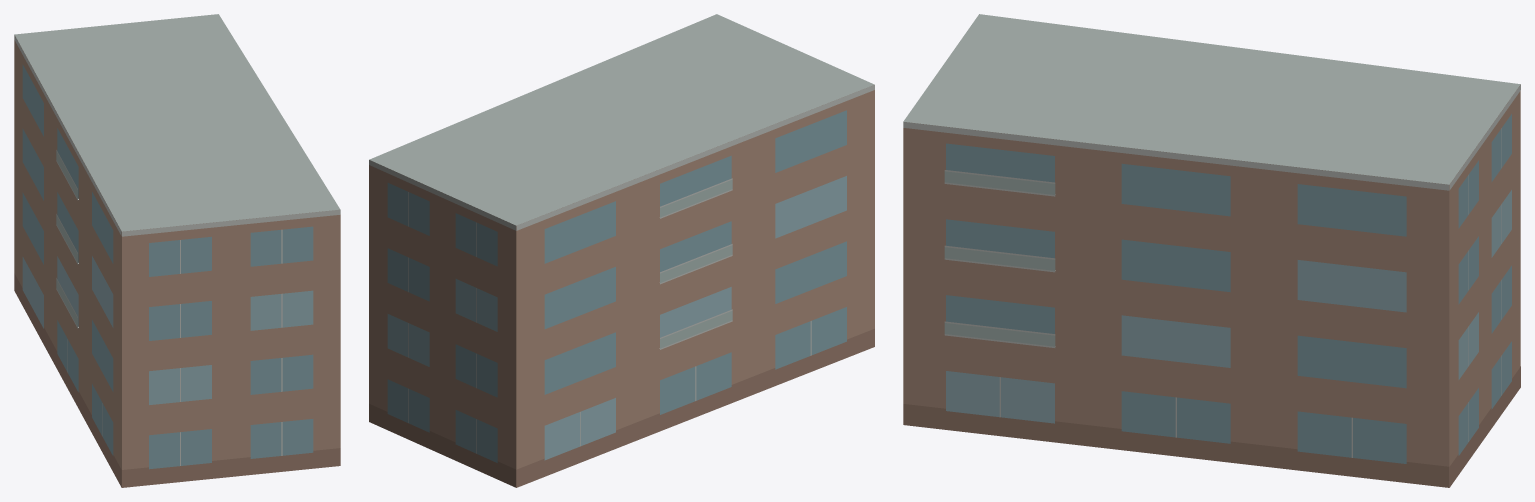
File: survey-upis-32869356.glb
3 renders of one model, left to right at view 1: azimuth 30°, elevation 25°; view 2: azimuth 150°, elevation 25°; view 3: azimuth 270°, elevation 25°, orthographic. The views are drawn at different scales.
Visible parts, largest first — view 1: survey-upis-32869356.tmp; view 2: survey-upis-32869356.tmp; view 3: survey-upis-32869356.tmp.
Boxes of the visible parts, x1,y1,x2,y2 form: survey-upis-32869356.tmp: [14, 14, 340, 487]; survey-upis-32869356.tmp: [369, 14, 874, 487]; survey-upis-32869356.tmp: [903, 14, 1520, 487].
Size of the model in its own units: 14.74 by 12.2 by 22.53.
